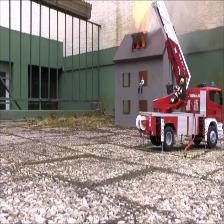fire: (131, 0, 150, 34)
